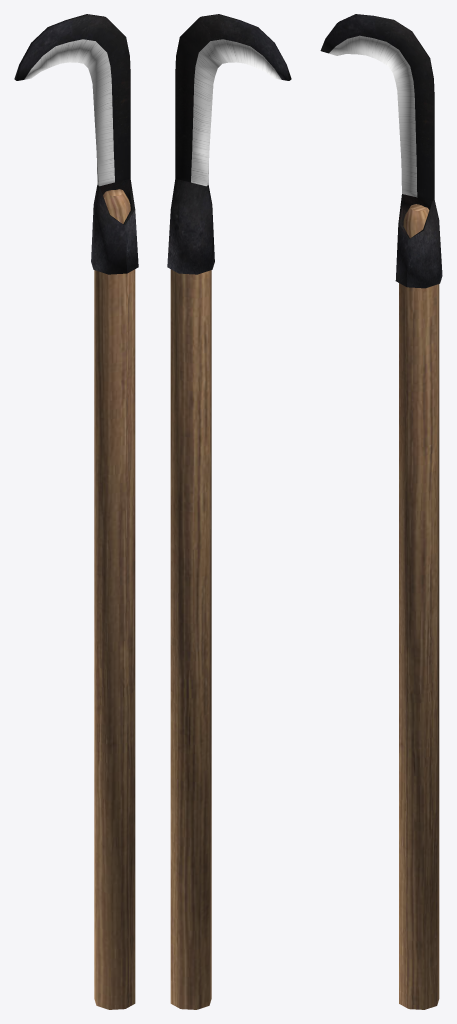
File: scythe1.fbx
3 renders of one model, left to right at view 1: azimuth 30°, elevation 25°; view 2: azimuth 150°, elevation 25°; view 3: azimuth 330°, elevation 25°, orthographic.
Visible parts, largest first — view 1: Cube.011; view 2: Cube.011; view 3: Cube.011.
Boxes of the visible parts, x1,y1,x2,y2 form: Cube.011: (14,14,138,1009); Cube.011: (167,14,291,1009); Cube.011: (320,14,442,1009).
Size of the model in its own units: 13.2 by 4.67 by 104.
3 materials, 3 textured.
